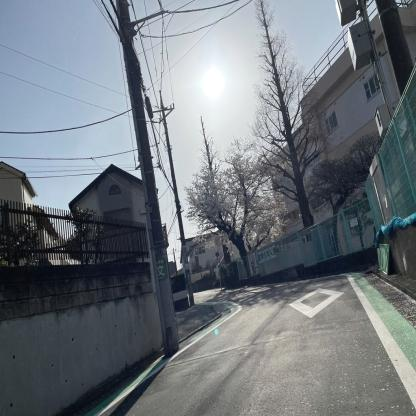Someiyoshino: (182, 120, 284, 262)
